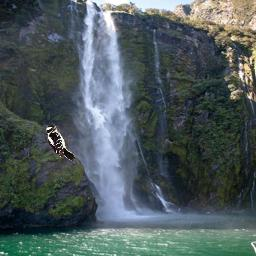Woodpecker: (46, 125, 76, 162)
